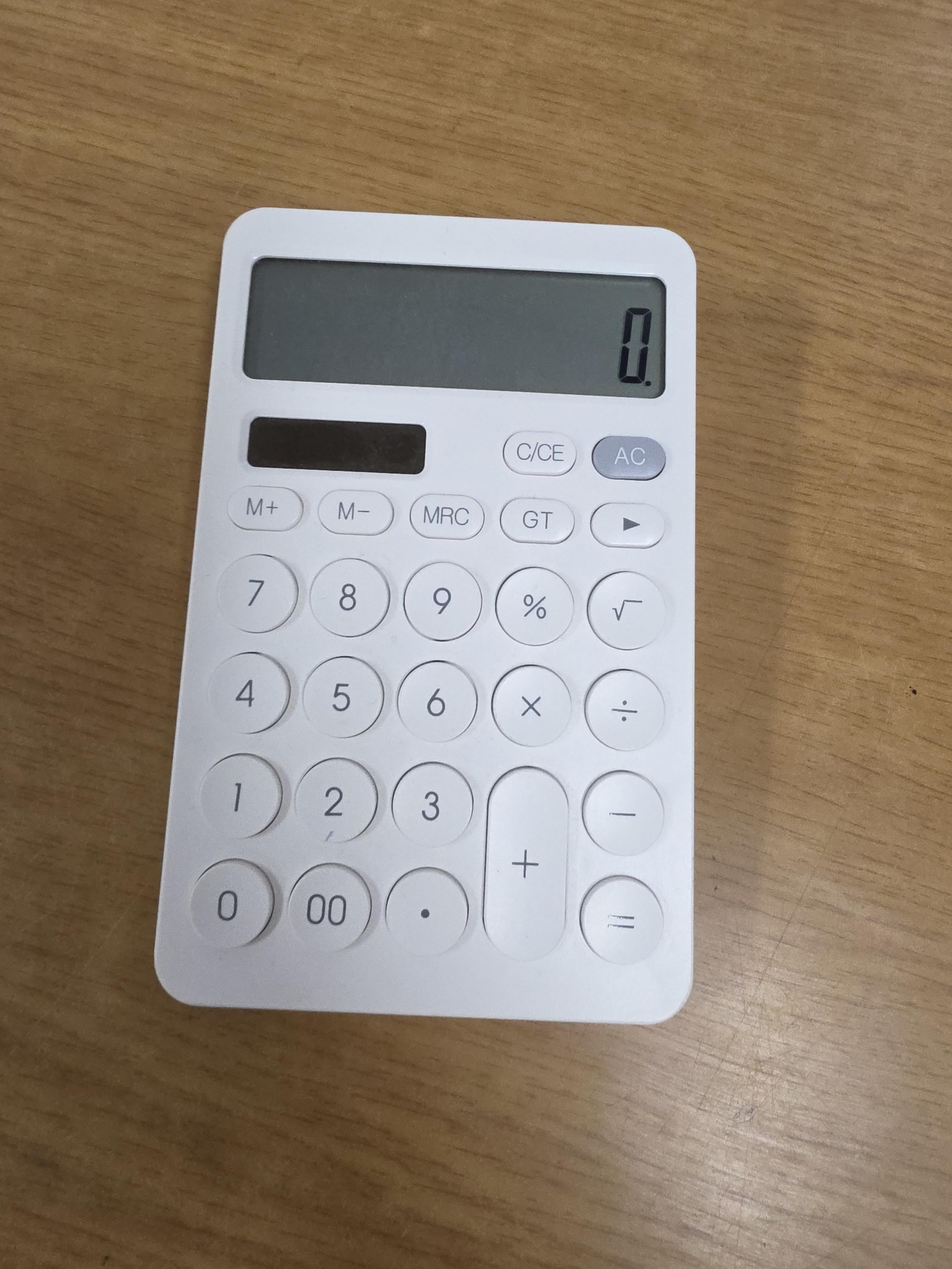calculator: (155, 206, 698, 1025)
